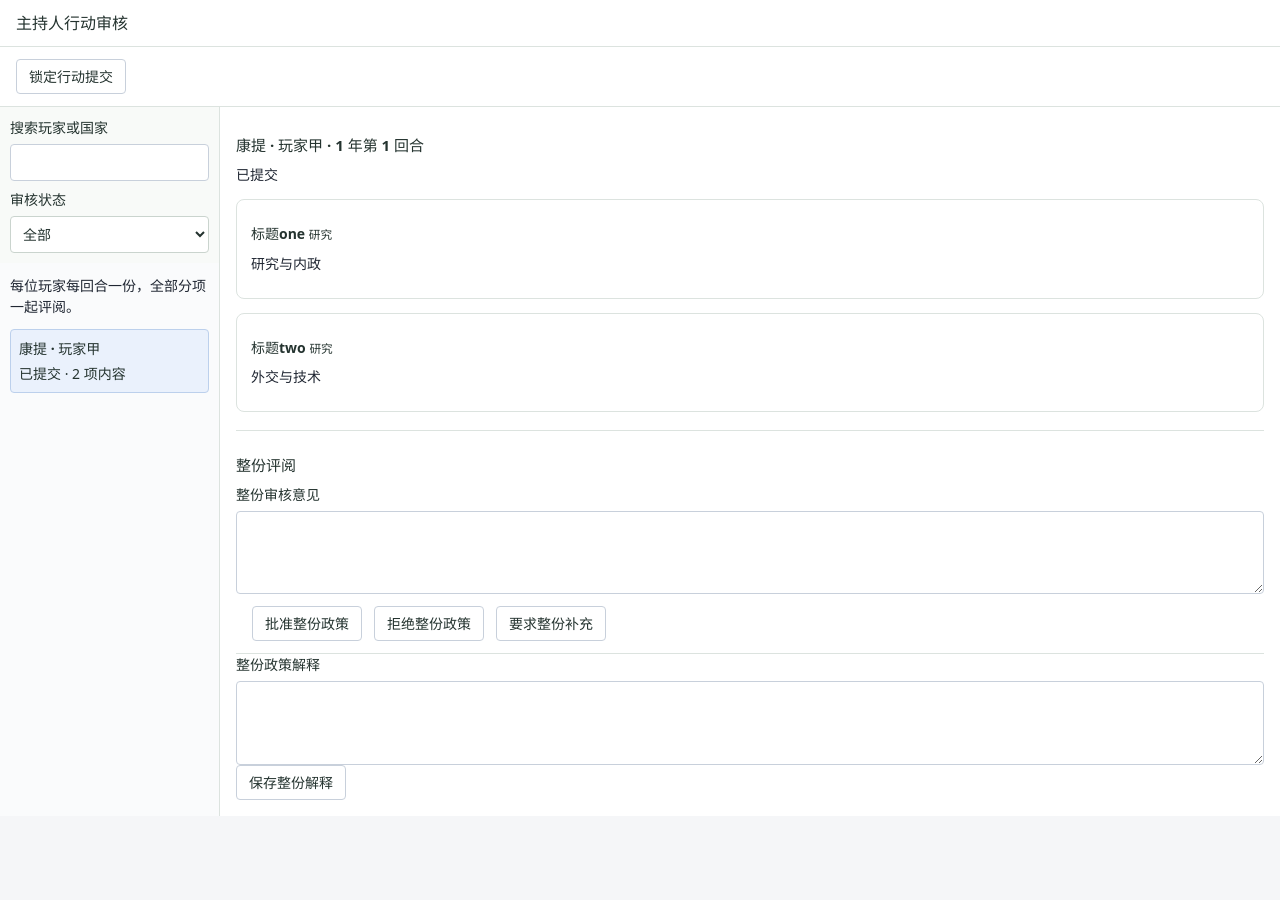
Scenario: reports a failed review backup honestly while retaining the text and leave protection
Type "浏览器存储失败也不能清空" into the text box labelled "整份审核意见" at (750, 553), box [236, 511, 1264, 594]
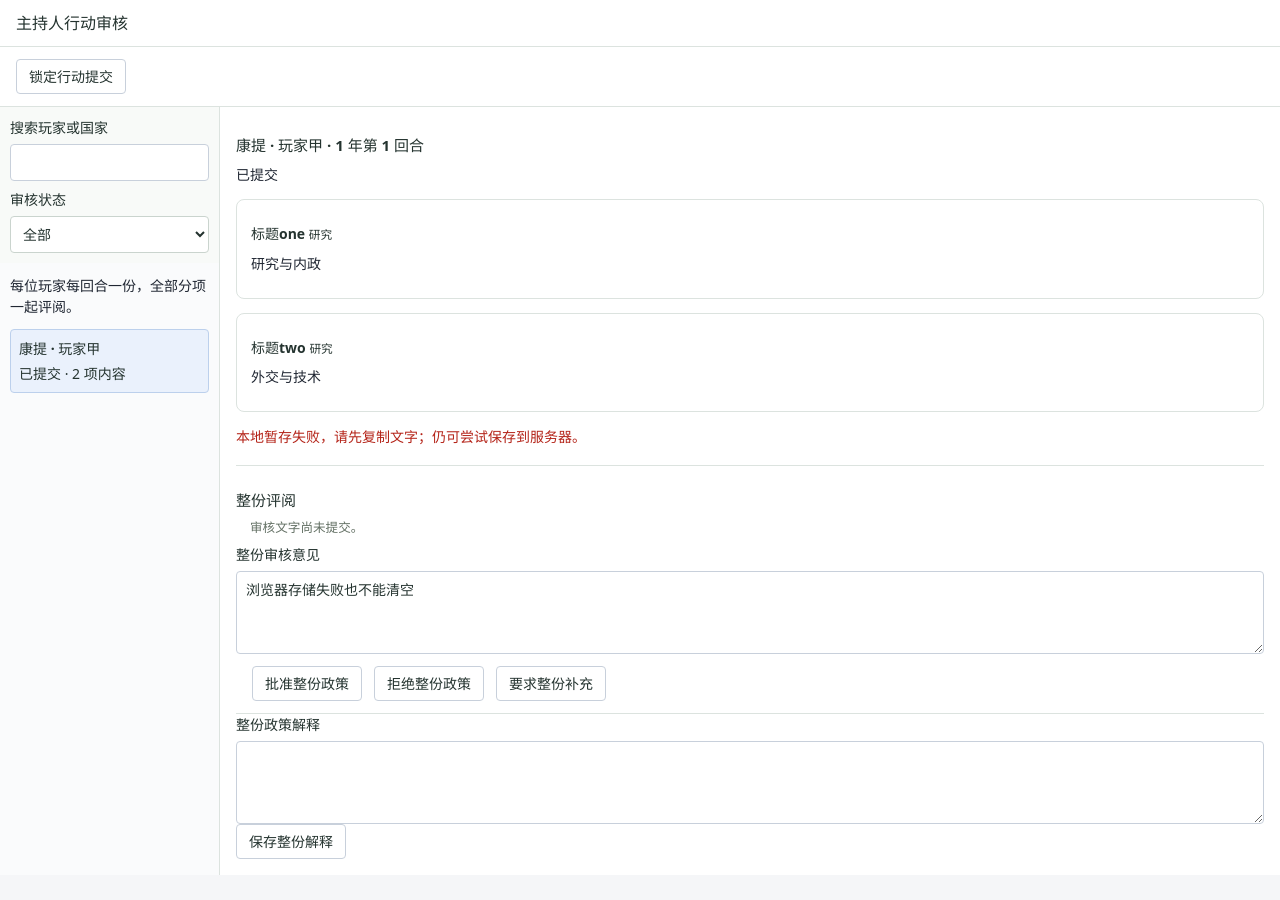
Now the message "本地暂存失败，请先复制文字；仍可尝试保存到服务器。" is shown, box [236, 427, 586, 446]
